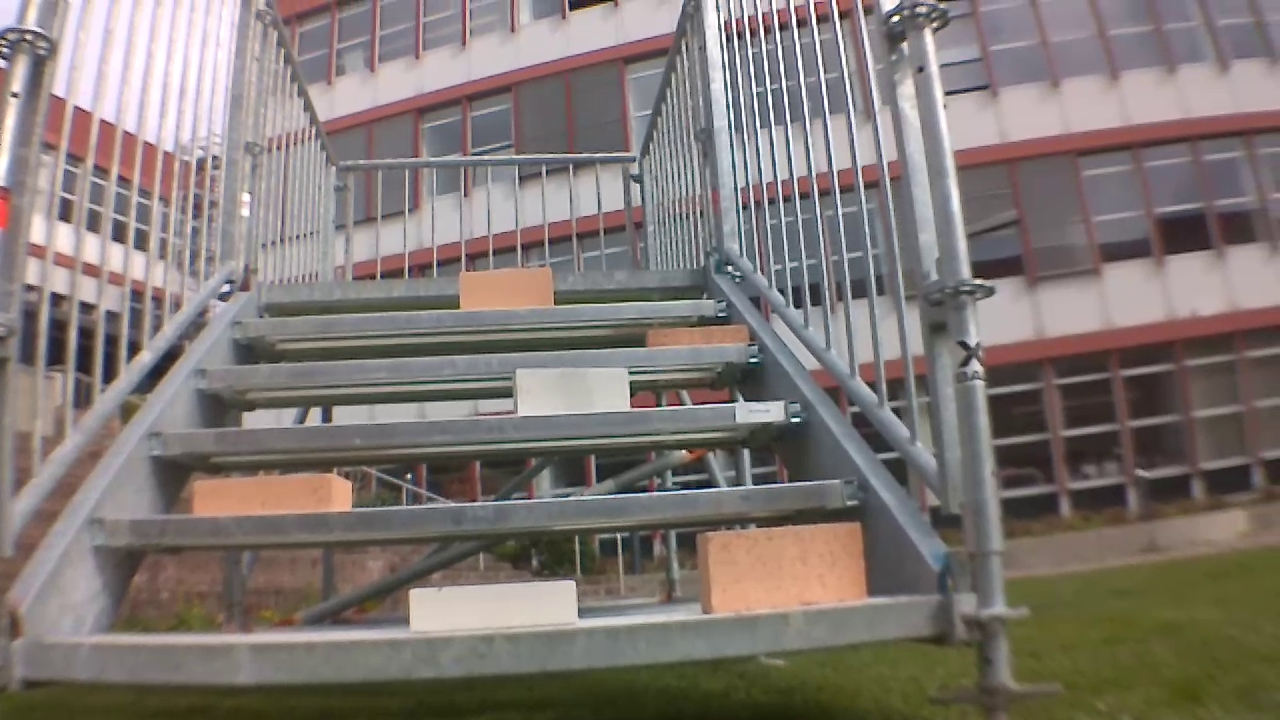brick: (698, 525, 865, 612), (408, 580, 578, 632), (193, 474, 350, 513), (517, 369, 628, 412), (458, 266, 553, 309), (648, 326, 749, 345)
edge: (27, 597, 946, 682), (90, 479, 860, 542), (152, 400, 802, 449), (197, 343, 761, 384), (229, 300, 725, 336), (262, 270, 702, 299)
stairs: (4, 3, 1046, 716)
steps: (18, 264, 961, 688)
